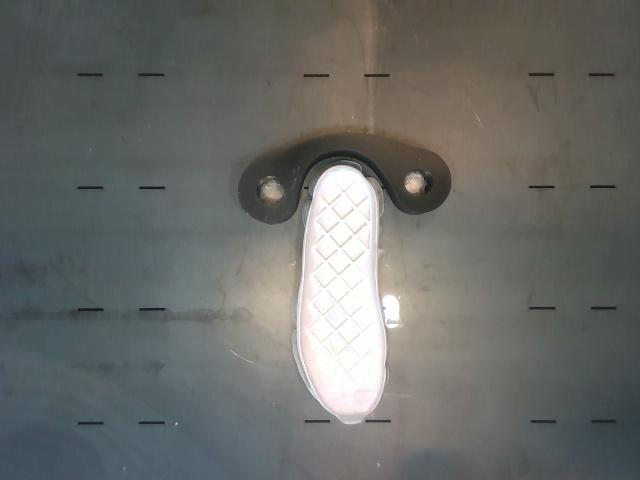shoes: (299, 167, 385, 424)
